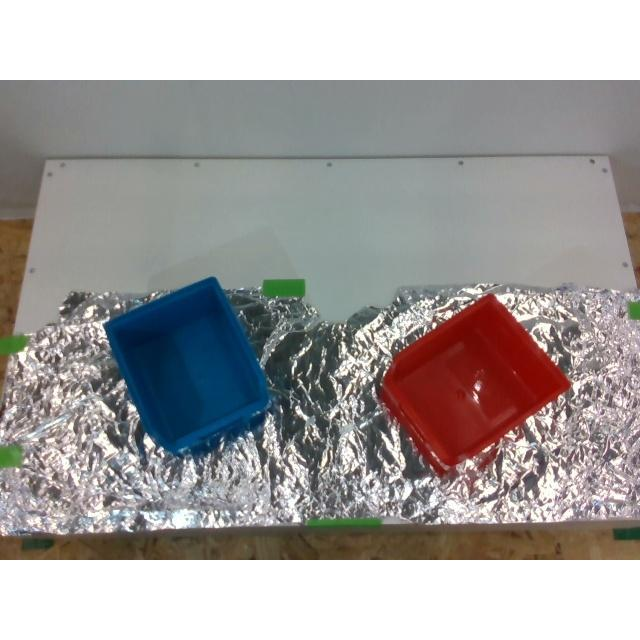container_box_blue: (105, 278, 269, 454)
container_box_red: (380, 294, 568, 474)
